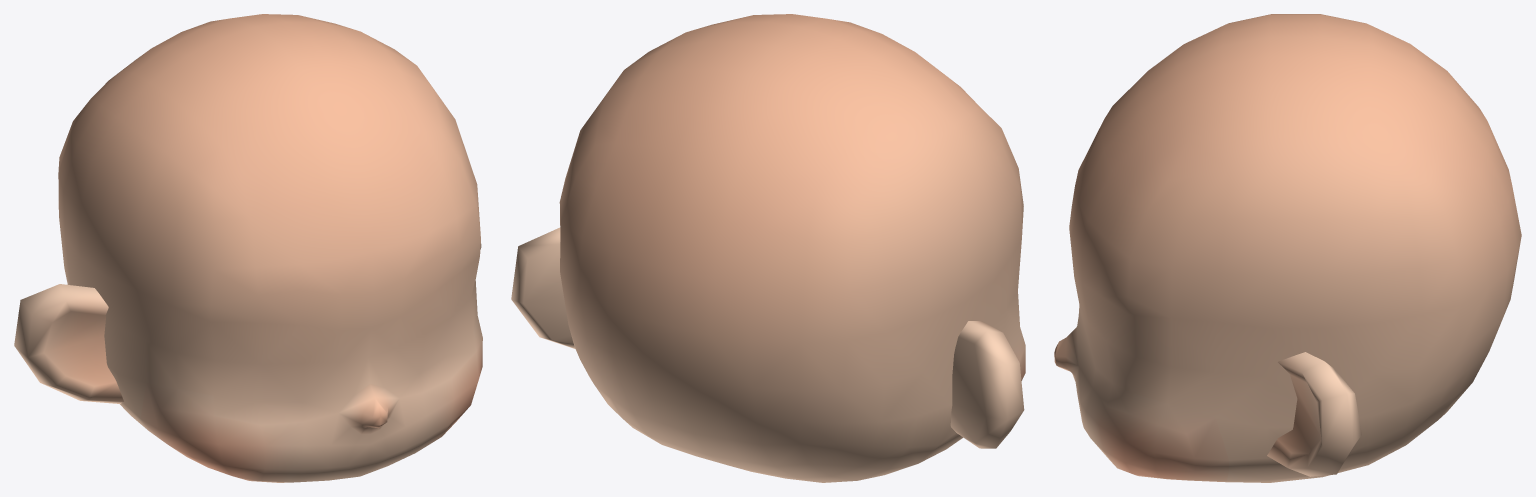
The model's file is Body_White_Head_1.fbx.
3 renders of one model, left to right at view 1: azimuth 30°, elevation 25°; view 2: azimuth 150°, elevation 25°; view 3: azimuth 270°, elevation 25°, orthographic. The views are drawn at different scales.
Visible parts, largest first — view 1: Body_White_Head_1; view 2: Body_White_Head_1; view 3: Body_White_Head_1.
Boxes of the visible parts, x1=… form: Body_White_Head_1: x1=14, y1=14, x2=482, y2=482; Body_White_Head_1: x1=511, y1=14, x2=1025, y2=482; Body_White_Head_1: x1=1054, y1=14, x2=1521, y2=482.
Size of the model in its own units: 64.19 by 52.19 by 53.9.
